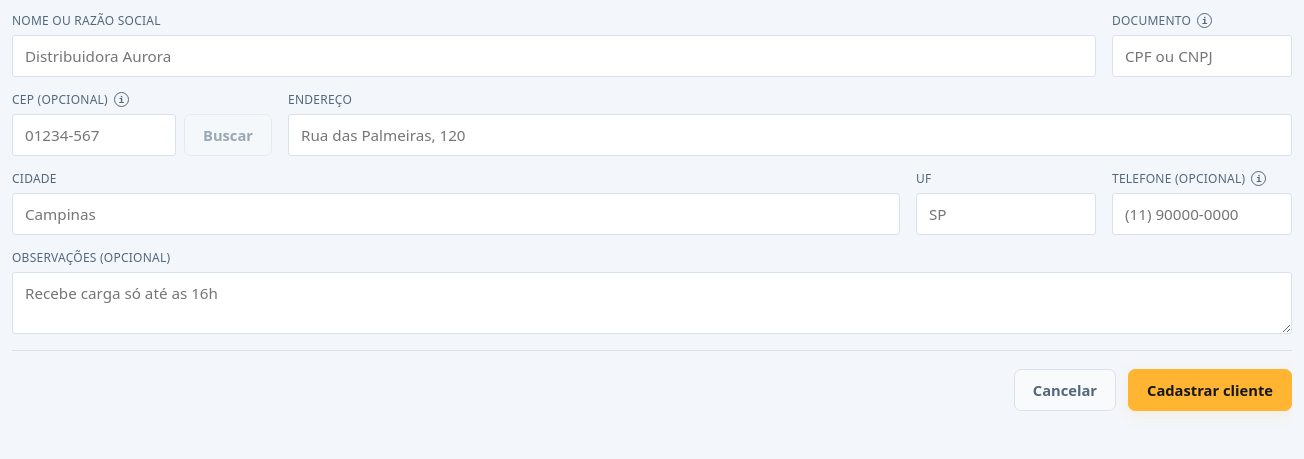
Scenario: CustomerForm › o CEP preenche endereço, cidade e UF (OC70)
In the field labelled "CEP (OPCIONAL)": (94, 135) [12, 114, 176, 156], type "01234567"
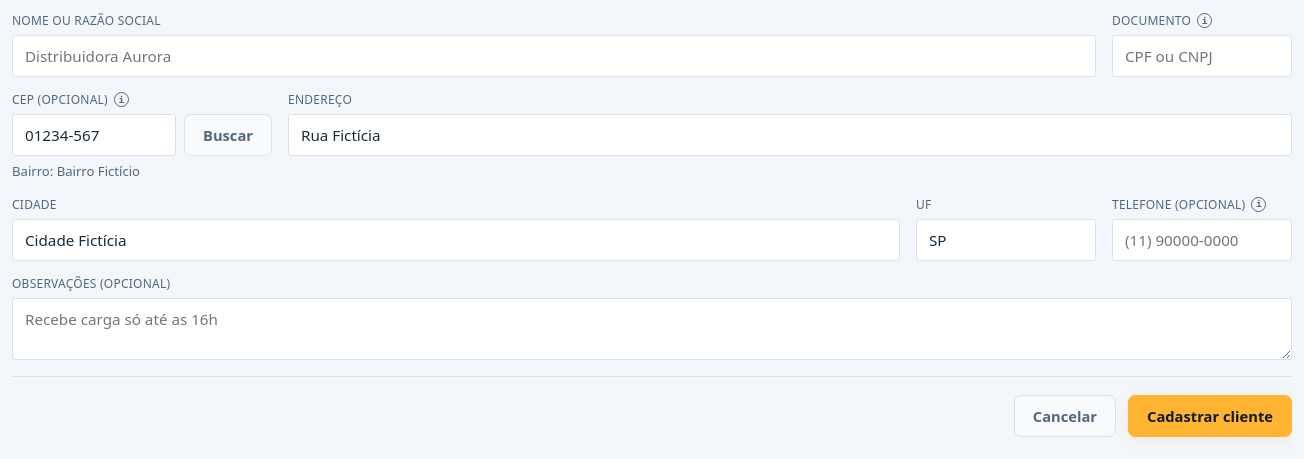
Result: the field labelled "ENDEREÇO" holds "Rua Fictícia" at [288, 114, 1292, 156]
Result: the field labelled "CIDADE" holds "Cidade Fictícia" at [12, 219, 900, 261]
Result: the field labelled "UF" holds "SP" at [916, 219, 1096, 261]
